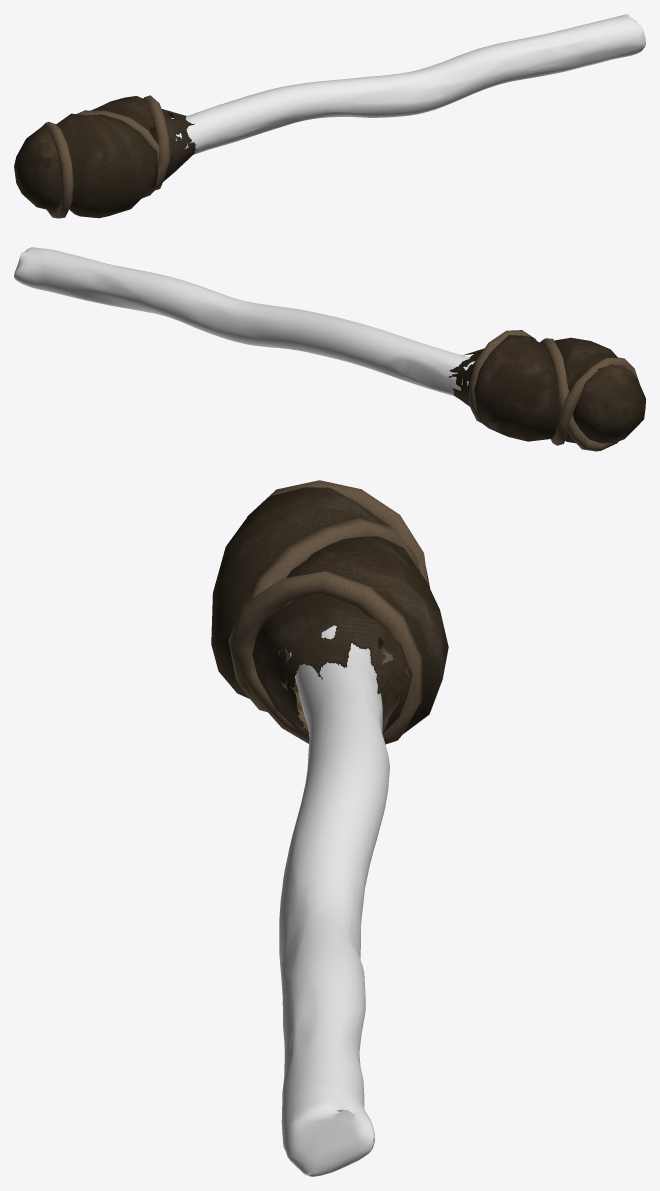
File: Torch.fbx
3 renders of one model, top to bottom at view 1: azimuth 30°, elevation 25°; view 2: azimuth 150°, elevation 25°; view 3: azimuth 270°, elevation 25°, orthographic. The views are drawn at different scales.
Visible parts, largest first — view 1: Torch_LOD0; view 2: Torch_LOD0; view 3: Torch_LOD0.
Part boxes in pixels (<box>): Torch_LOD0: <box>14,14,645,218</box>; Torch_LOD0: <box>14,247,645,451</box>; Torch_LOD0: <box>211,480,448,1176</box>.
Size of what is drawn, in the model's own units: 42.97 by 6.52 by 7.15.
